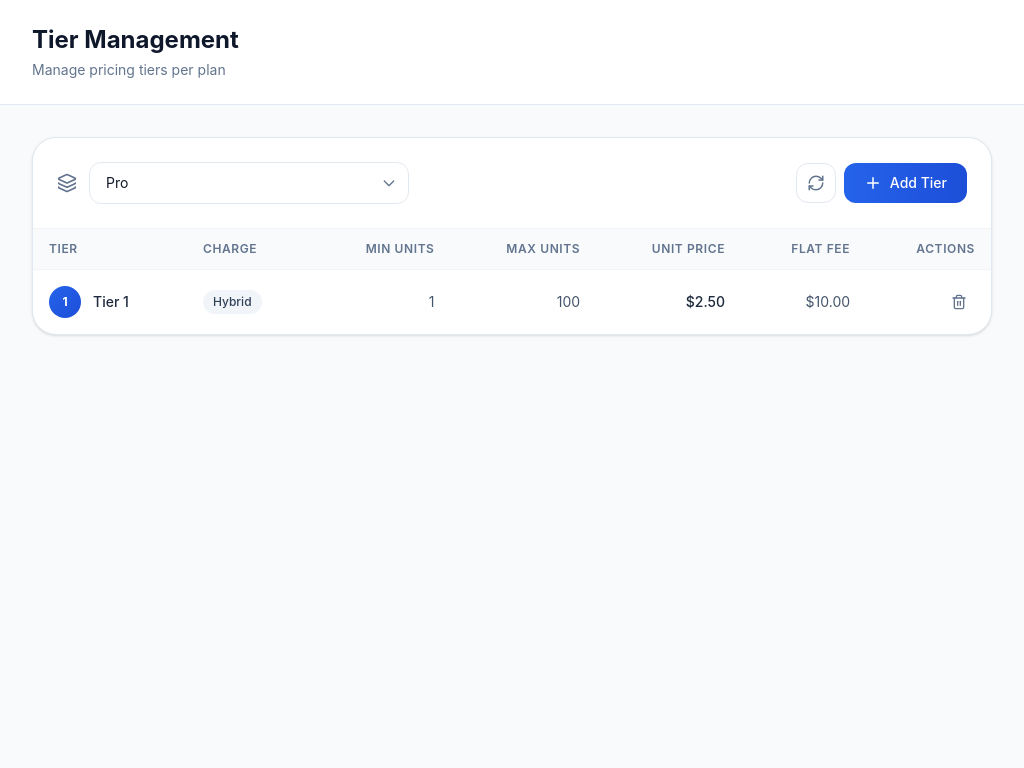
Test: C2 — Cancel resets the form › reopening after close (X) button shows an empty form and no stale error
Click the button "Add Tier" at (905, 183), box left=844, top=163, right=967, bottom=203
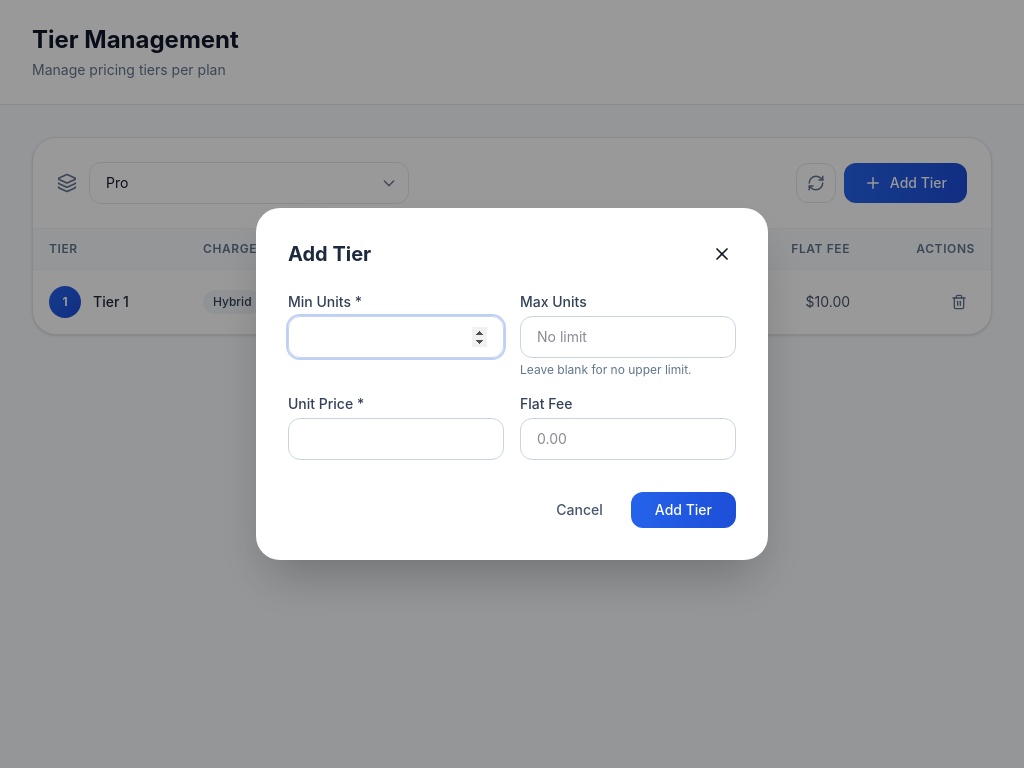
Type "7" into the number field labelled "Min Units *" at (396, 337), box left=288, top=316, right=504, bottom=358
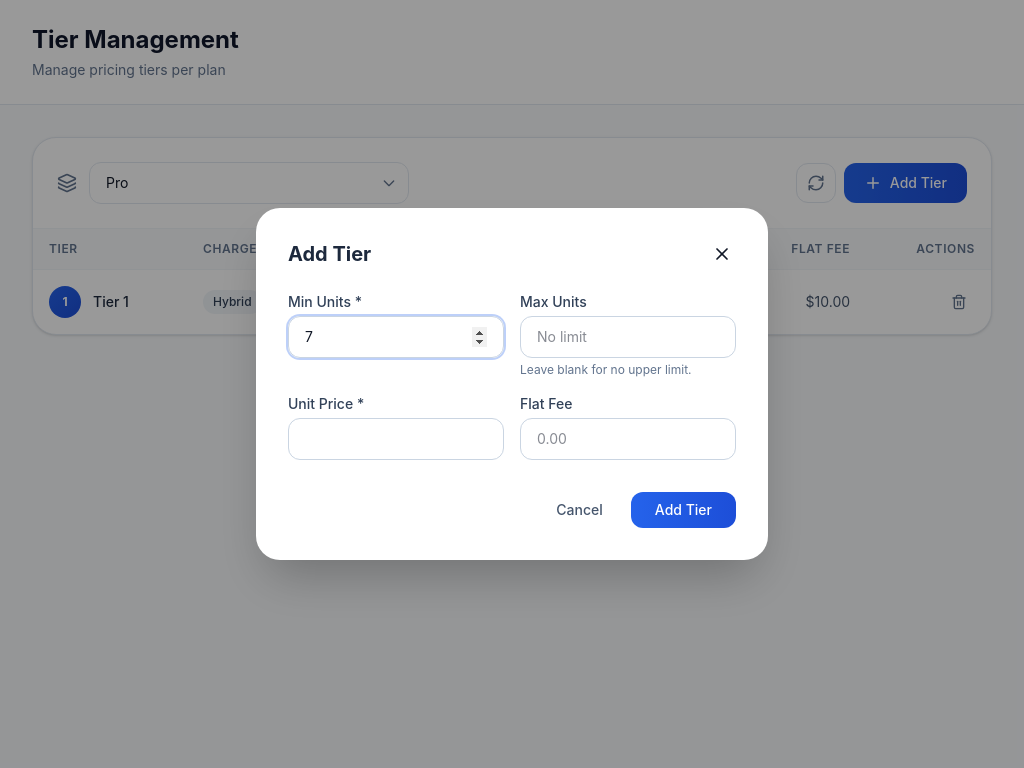
Click the button "Add Tier" at (683, 510), box left=631, top=492, right=736, bottom=528
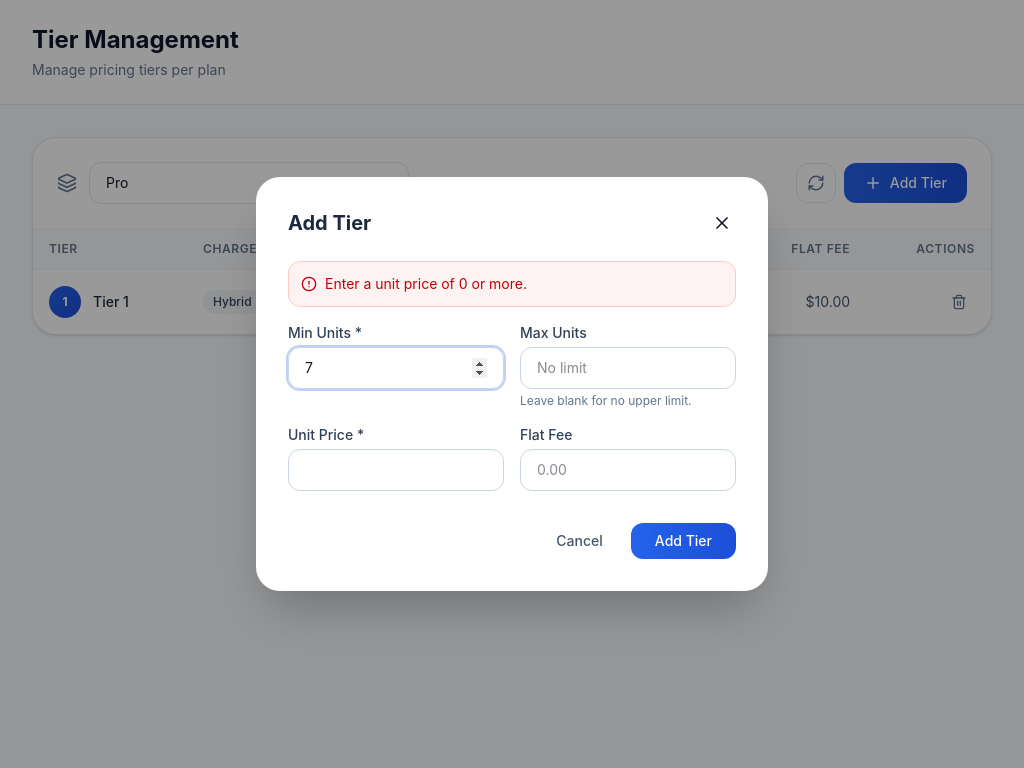
Check: the message "Enter a unit price of 0 or more." is shown, box left=288, top=261, right=736, bottom=307
Click the button named "Close" at (722, 223), box left=708, top=209, right=736, bottom=237
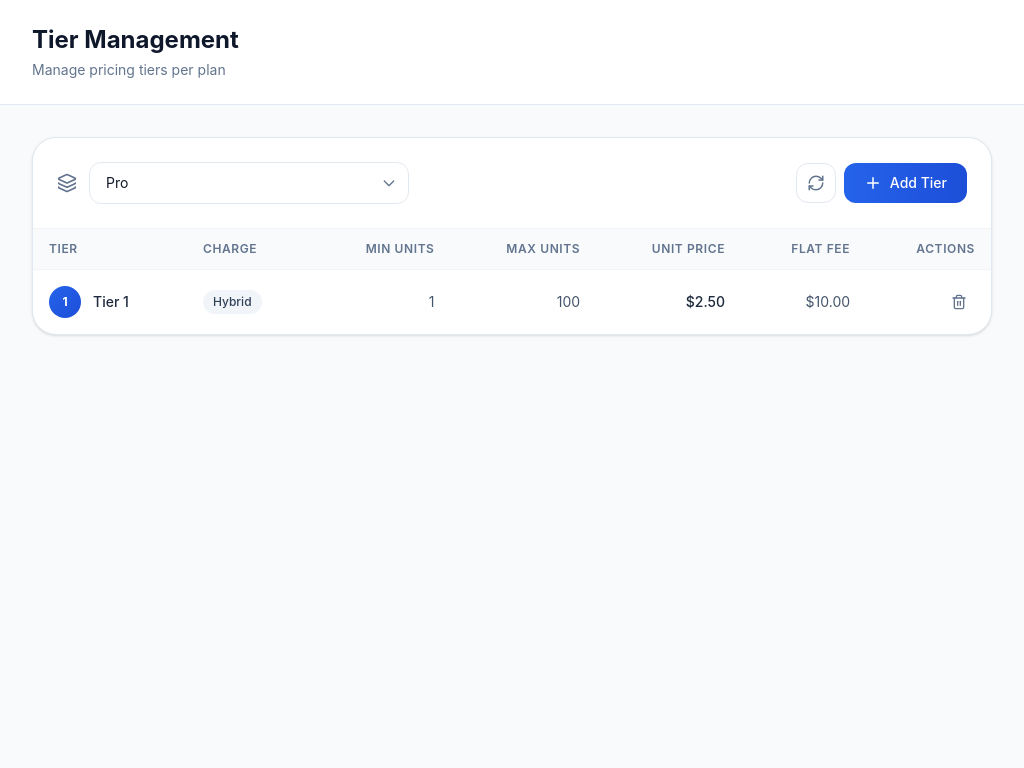
Check: the dialog is gone
Click the button "Add Tier" at (905, 183), box left=844, top=163, right=967, bottom=203
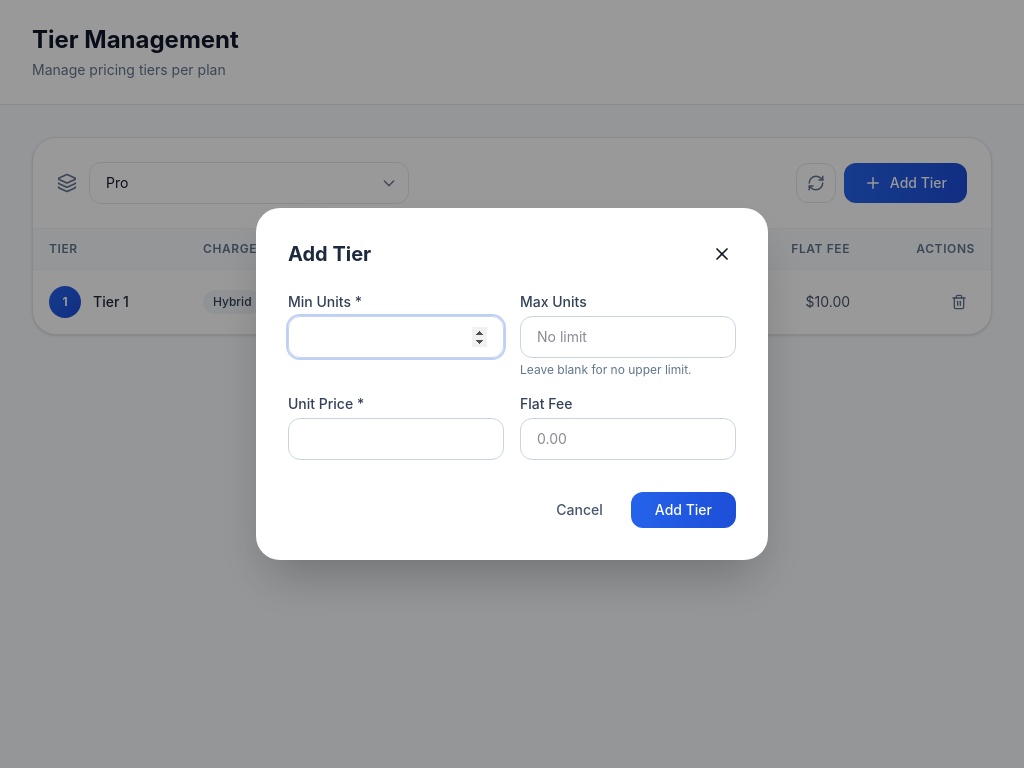
Check: the message "Enter a unit price of 0 or more." is not shown
Check: the number field labelled "Min Units *" is not empty, box left=288, top=316, right=504, bottom=358
